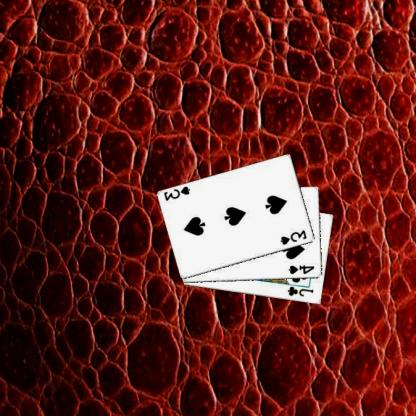3S: (280, 228, 310, 246), (163, 184, 193, 202)
4S: (288, 262, 317, 276)
JC: (287, 284, 317, 298)
